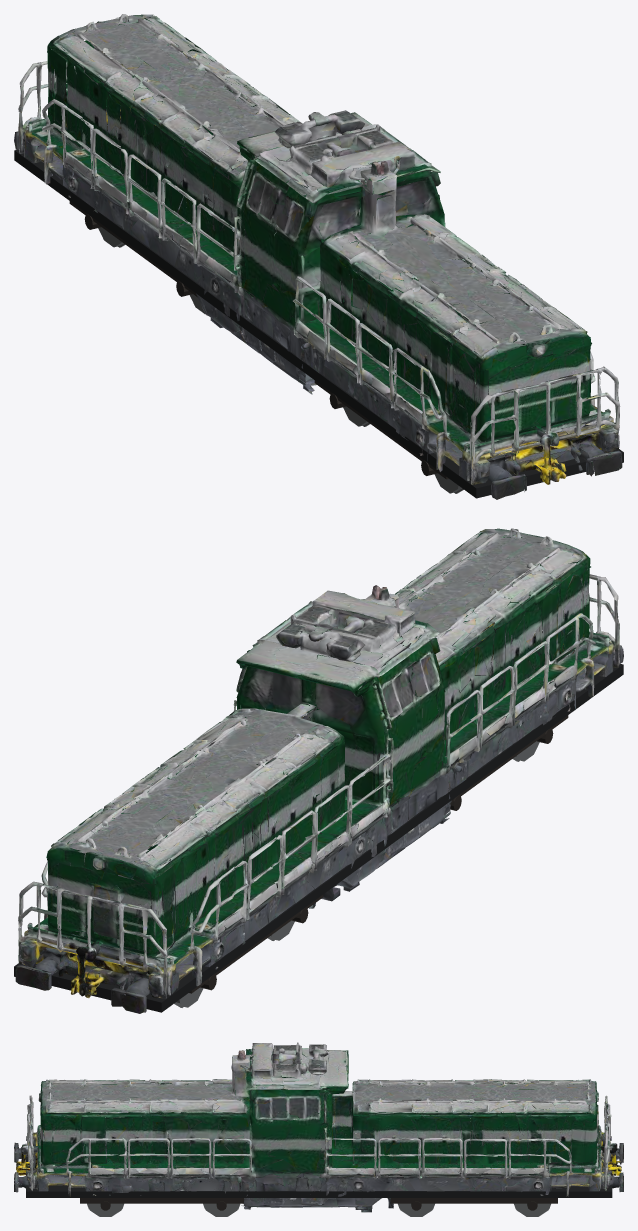
3 renders of one model, top to bottom at view 1: azimuth 30°, elevation 25°; view 2: azimuth 150°, elevation 25°; view 3: azimuth 270°, elevation 25°, orthographic. The views are drawn at different scales.
Parts seen in each view (by area): view 1: dr18_kori, dr18_frame; view 2: dr18_kori, dr18_frame; view 3: dr18_kori, dr18_frame, Bogie_R_side1, Bogie_F_side1, Wheel_F1_wR, Wheel_R1_wR, Wheel_R2_wR, Wheel_F2_wR.
Part boxes in pixels (bbox=[...]): dr18_kori: bbox=[14, 14, 622, 499]; dr18_frame: bbox=[14, 119, 623, 498]; dr18_kori: bbox=[15, 528, 623, 1013]; dr18_frame: bbox=[14, 634, 623, 1012]; dr18_kori: bbox=[14, 1042, 623, 1212]; dr18_frame: bbox=[26, 1146, 612, 1197]; Bogie_R_side1: bbox=[391, 1198, 557, 1203]; Bogie_F_side1: bbox=[80, 1198, 244, 1203]; Wheel_F1_wR: bbox=[87, 1203, 123, 1216]; Wheel_R1_wR: bbox=[398, 1203, 434, 1216]; Wheel_R2_wR: bbox=[514, 1203, 550, 1216]; Wheel_F2_wR: bbox=[203, 1203, 239, 1216].
Size of the model in its own units: 3 by 4.31 by 15.5.
5 materials, 1 textured.
